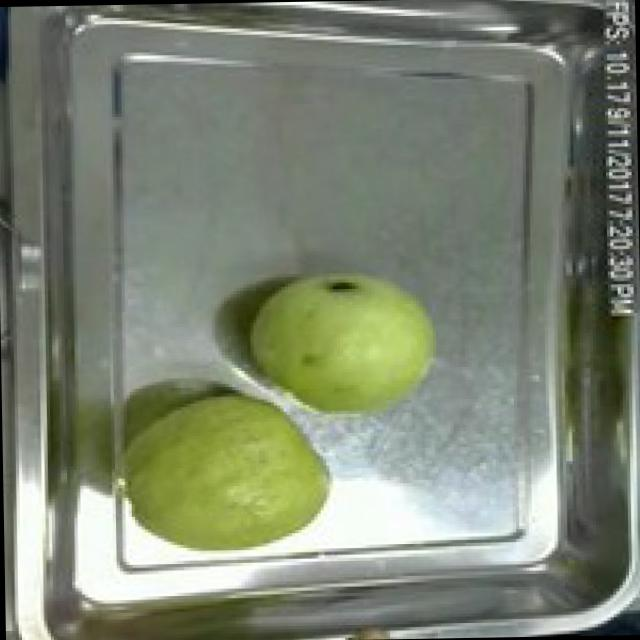Fruit: (116, 377, 337, 576), (239, 257, 447, 427)
